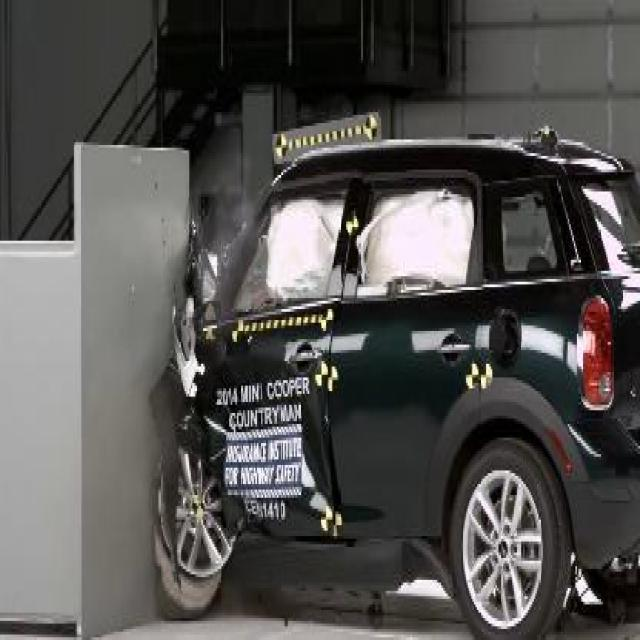accident: (7, 107, 638, 637)
